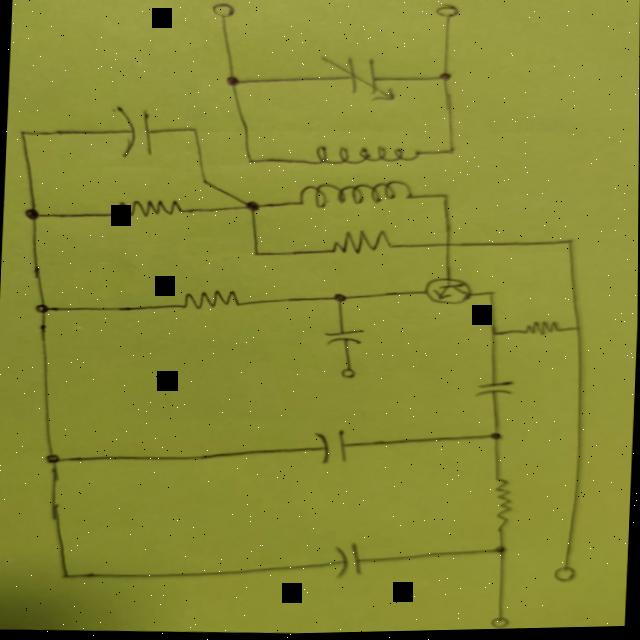capacitor: (322, 56, 396, 102), (114, 107, 154, 158), (317, 428, 348, 464), (333, 543, 364, 578), (323, 329, 364, 349), (474, 382, 516, 399)
junction: (243, 198, 264, 215), (328, 290, 349, 307), (489, 544, 512, 559), (24, 205, 43, 222), (35, 300, 53, 315), (434, 71, 454, 84), (46, 451, 64, 465), (224, 76, 244, 88), (487, 431, 502, 445), (247, 249, 264, 261), (442, 147, 457, 159), (569, 325, 583, 337), (244, 155, 259, 166), (439, 241, 454, 251), (186, 126, 200, 136), (197, 177, 211, 187), (437, 194, 451, 204), (60, 571, 74, 580), (487, 331, 499, 339), (562, 240, 574, 248), (484, 292, 495, 299), (17, 129, 27, 136)
resistor: (326, 230, 395, 257), (113, 197, 186, 221), (178, 288, 245, 312), (492, 477, 516, 532), (518, 320, 565, 340)
terminal: (553, 566, 578, 586), (212, 2, 237, 20), (488, 615, 511, 631), (337, 364, 357, 382), (434, 6, 459, 20)
transformer: (294, 145, 424, 212)
transistor: (419, 275, 478, 310)
